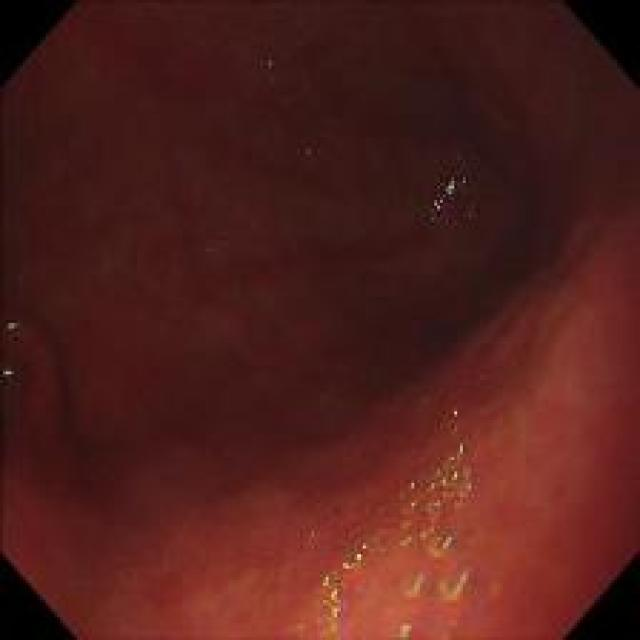bubbles: (261, 58, 281, 86), (466, 200, 479, 219)
color misalignment: (398, 478, 460, 555), (316, 568, 345, 636), (338, 539, 378, 582), (425, 174, 461, 221), (439, 442, 475, 485), (436, 564, 474, 602), (396, 571, 426, 602), (391, 612, 418, 638), (2, 318, 21, 344), (2, 358, 16, 384)
contrast: (1, 1, 636, 494)
specularity: (300, 146, 312, 156), (450, 408, 459, 418), (265, 58, 271, 66)
